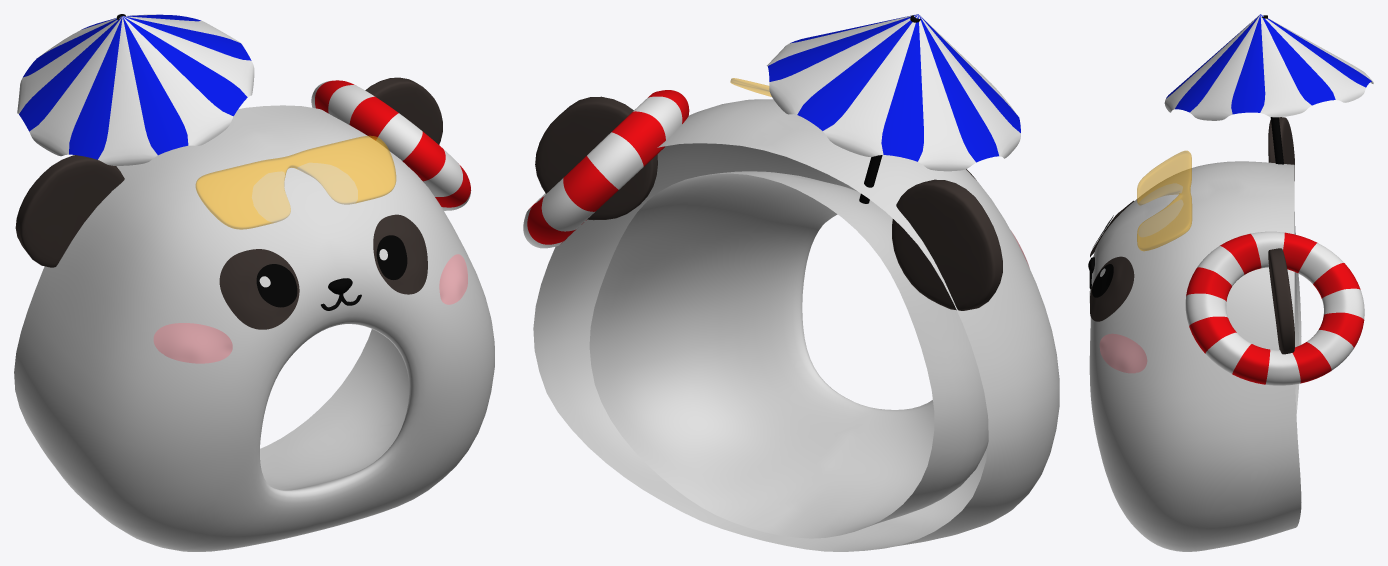
File: Pubao.glb
3 renders of one model, left to right at view 1: azimuth 30°, elevation 25°; view 2: azimuth 150°, elevation 25°; view 3: azimuth 270°, elevation 25°, orthographic. The views are drawn at different scales.
Parts seen in each view (by area): view 1: 얼굴, 우산, 선글라스, 귀, 튜브, 눈주변부.001, 볼, 눈주변부2; view 2: 얼굴, 우산, 귀, 튜브; view 3: 얼굴, 튜브, 우산, 선글라스, 귀, 눈주변부.001, 볼, 눈주변부2, 우산대.
Boxes of the visible parts, x1,y1,x2,y2 form: 얼굴: [14, 105, 494, 551]; 우산: [17, 14, 254, 165]; 선글라스: [195, 135, 396, 229]; 귀: [15, 77, 442, 267]; 튜브: [311, 80, 471, 210]; 눈주변부.001: [219, 214, 427, 329]; 볼: [153, 254, 467, 363]; 눈주변부2: [256, 235, 407, 307]; 얼굴: [533, 99, 1059, 551]; 우산: [767, 14, 1020, 171]; 귀: [535, 96, 1002, 310]; 튜브: [523, 90, 689, 248]; 얼굴: [1089, 161, 1301, 551]; 튜브: [1185, 231, 1364, 385]; 우산: [1164, 14, 1373, 120]; 선글라스: [1137, 150, 1192, 251]; 귀: [1268, 117, 1294, 354]; 눈주변부.001: [1090, 200, 1134, 321]; 볼: [1099, 333, 1147, 373]; 눈주변부2: [1092, 215, 1113, 297]; 우산대: [1261, 15, 1283, 164].
Size of the model in its own units: 1.17 by 1.34 by 0.7823.
